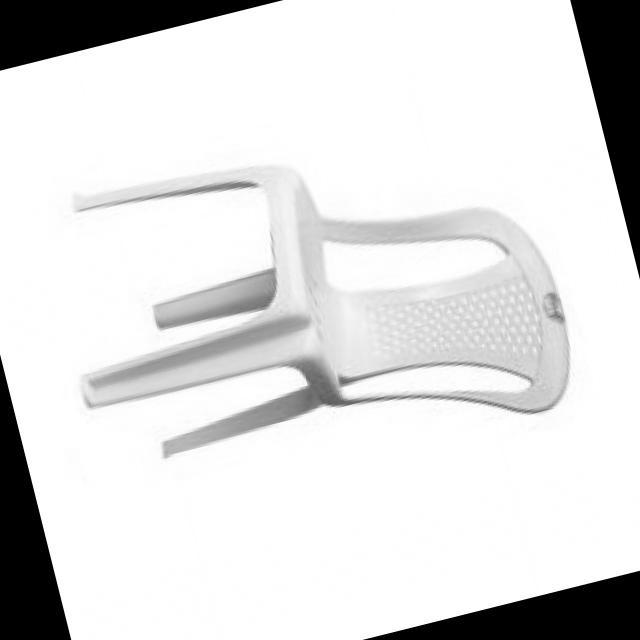chair: (29, 90, 586, 522)
